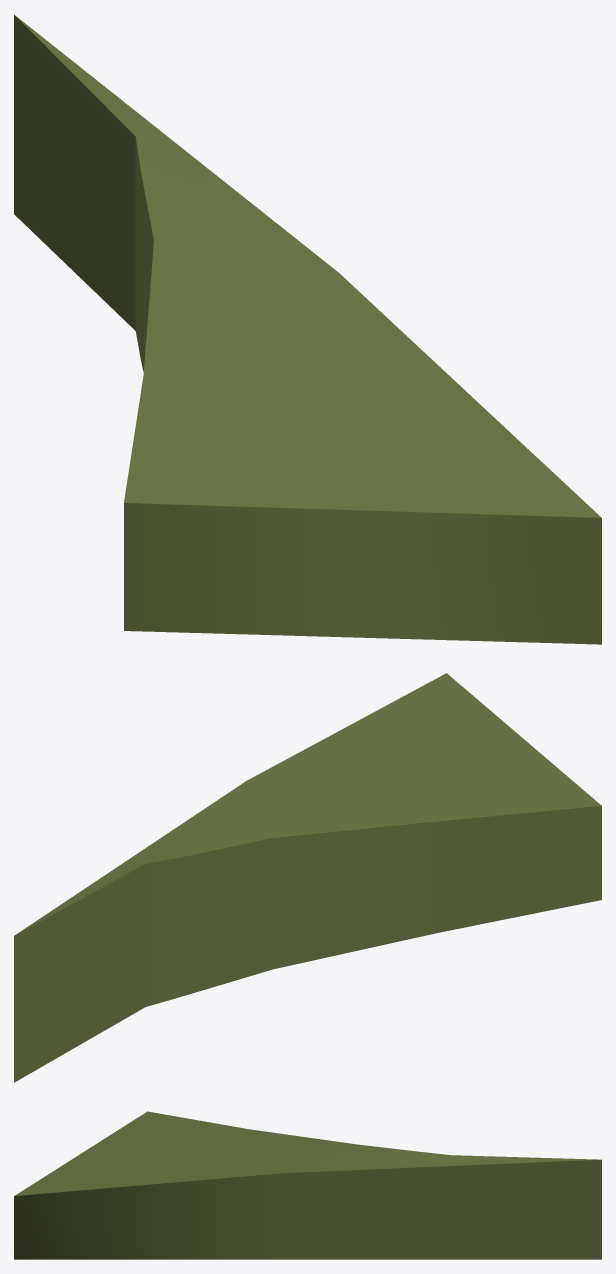
The model's file is ground_05.fbx.
3 renders of one model, top to bottom at view 1: azimuth 30°, elevation 25°; view 2: azimuth 150°, elevation 25°; view 3: azimuth 270°, elevation 25°, orthographic. The views are drawn at different scales.
Parts seen in each view (by area): view 1: ground_05; view 2: ground_05; view 3: ground_05.
Part boxes in pixels (bbox=[...]): ground_05: bbox=[14, 14, 601, 644]; ground_05: bbox=[14, 673, 601, 1082]; ground_05: bbox=[14, 1111, 601, 1259].
Size of the model in its own units: 4.46 by 2.44 by 13.01.
